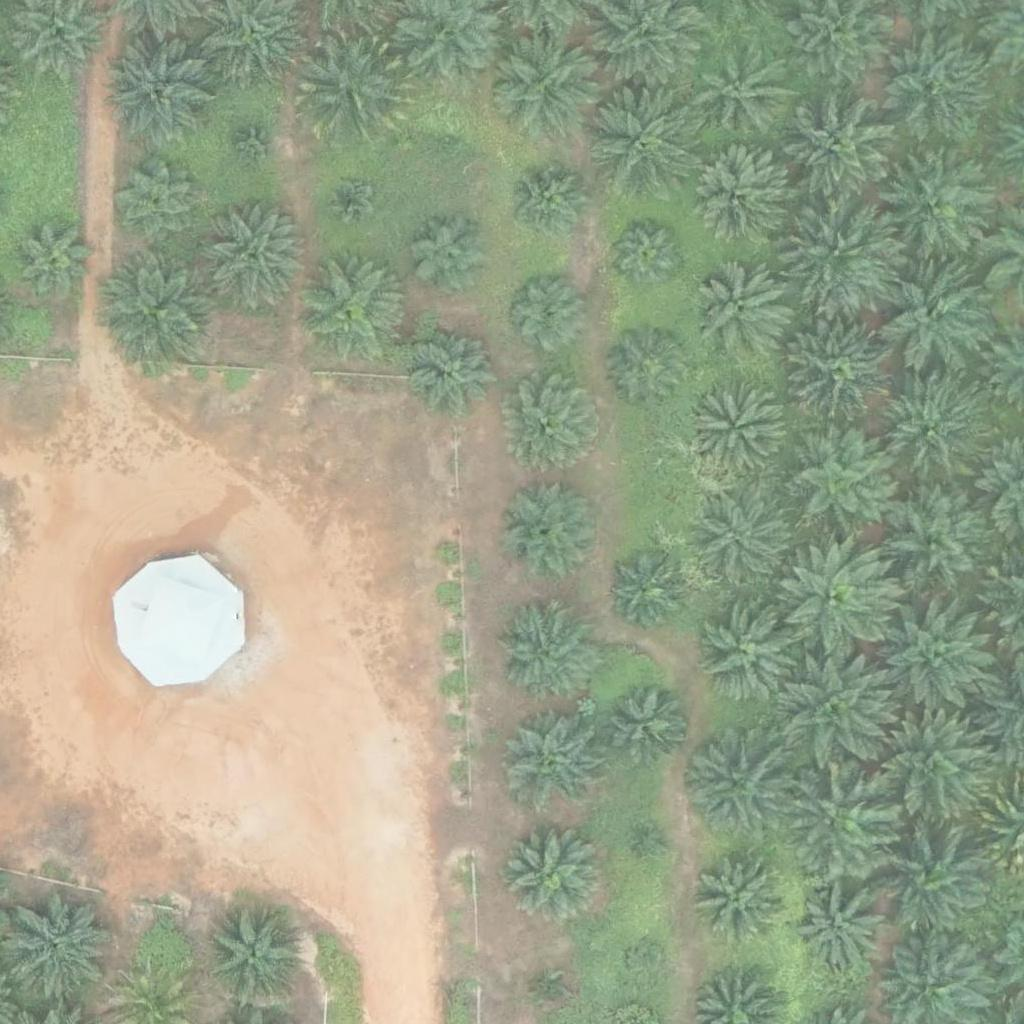Kelapa_Sawit: (586, 77, 699, 191), (681, 728, 794, 842), (5, 891, 118, 1005), (877, 27, 990, 140), (491, 28, 604, 141), (104, 40, 217, 153), (104, 253, 217, 366), (785, 199, 898, 312), (786, 316, 899, 429), (882, 147, 995, 260), (879, 261, 992, 374), (873, 372, 986, 485), (881, 487, 994, 600), (783, 92, 895, 206), (296, 253, 408, 367), (781, 656, 893, 770), (875, 826, 987, 940), (784, 762, 896, 876), (295, 29, 407, 142), (197, 203, 309, 316), (781, 425, 893, 538), (780, 546, 892, 659), (883, 598, 995, 711), (872, 713, 984, 826), (494, 600, 594, 701), (686, 149, 786, 250), (692, 261, 792, 362), (687, 379, 787, 480), (502, 711, 602, 812), (500, 819, 600, 920), (202, 906, 302, 1007), (694, 44, 794, 144), (504, 374, 604, 474), (499, 481, 599, 581), (697, 493, 797, 593), (699, 606, 799, 706), (413, 326, 501, 414), (116, 161, 203, 249), (407, 211, 494, 299), (506, 161, 593, 249), (503, 270, 590, 358), (605, 325, 692, 413), (797, 885, 884, 973), (697, 852, 784, 940), (603, 681, 690, 769), (610, 553, 685, 629), (15, 222, 90, 297), (608, 217, 683, 292), (231, 119, 281, 170), (325, 175, 375, 226), (422, 112, 472, 162), (628, 944, 666, 982), (641, 829, 666, 854), (537, 979, 562, 1004)
